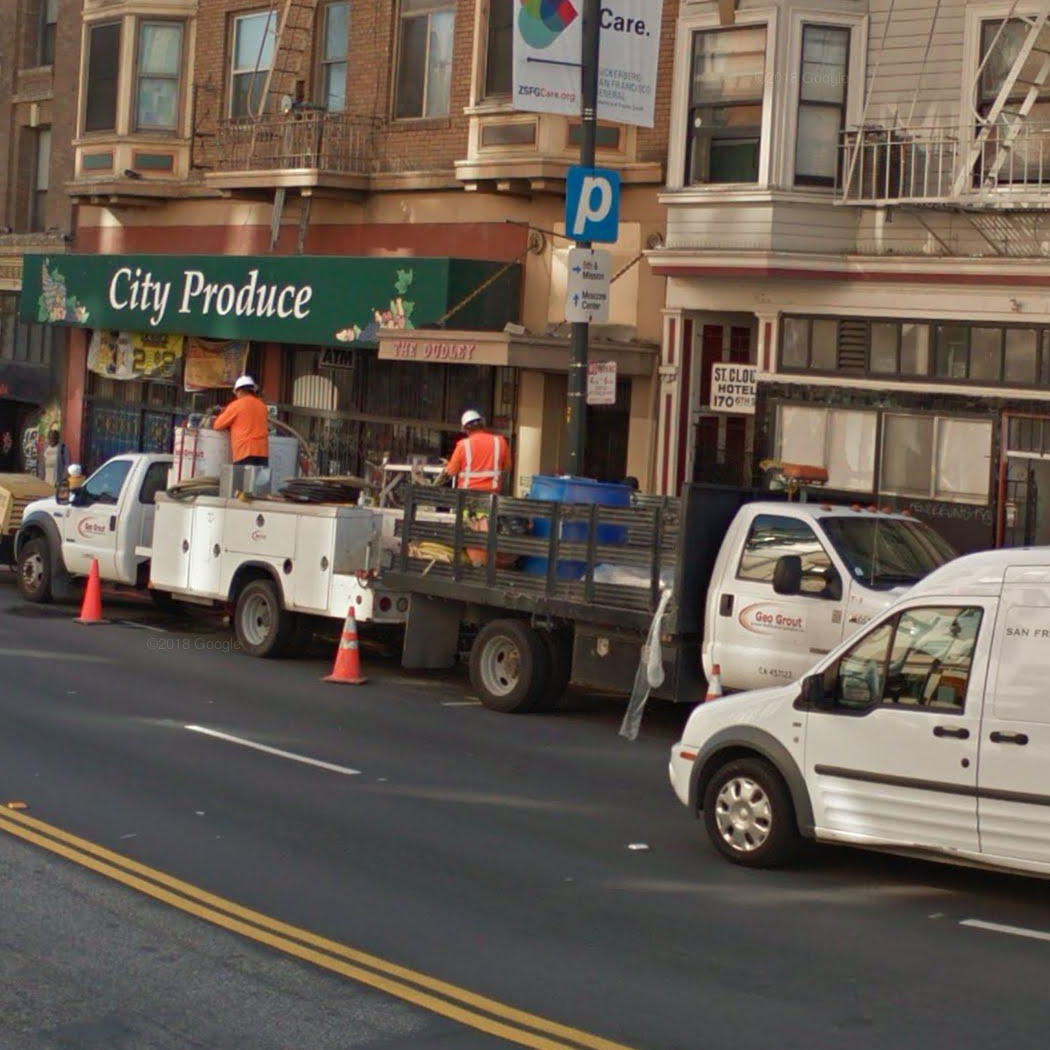No Parking: (586, 359, 617, 406)
